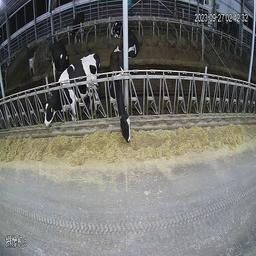cow: (44, 47, 101, 127), (107, 49, 133, 141), (53, 35, 70, 72), (72, 11, 87, 45), (128, 24, 140, 57), (111, 19, 123, 39)
